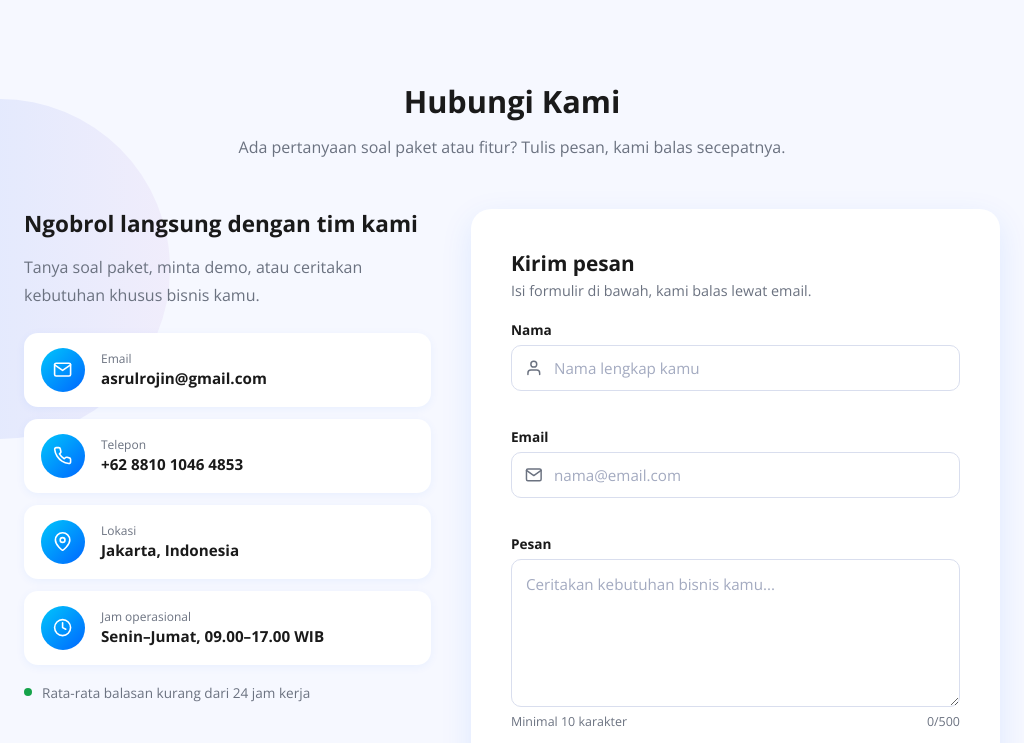
Test: Contact › memvalidasi saat field ditinggalkan (blur)
The width and height of the screenshot is (1024, 743).
Type "oji@" into the field labelled "Email".
click(736, 475); type("oji@")  # box 511,452 -> 960,498
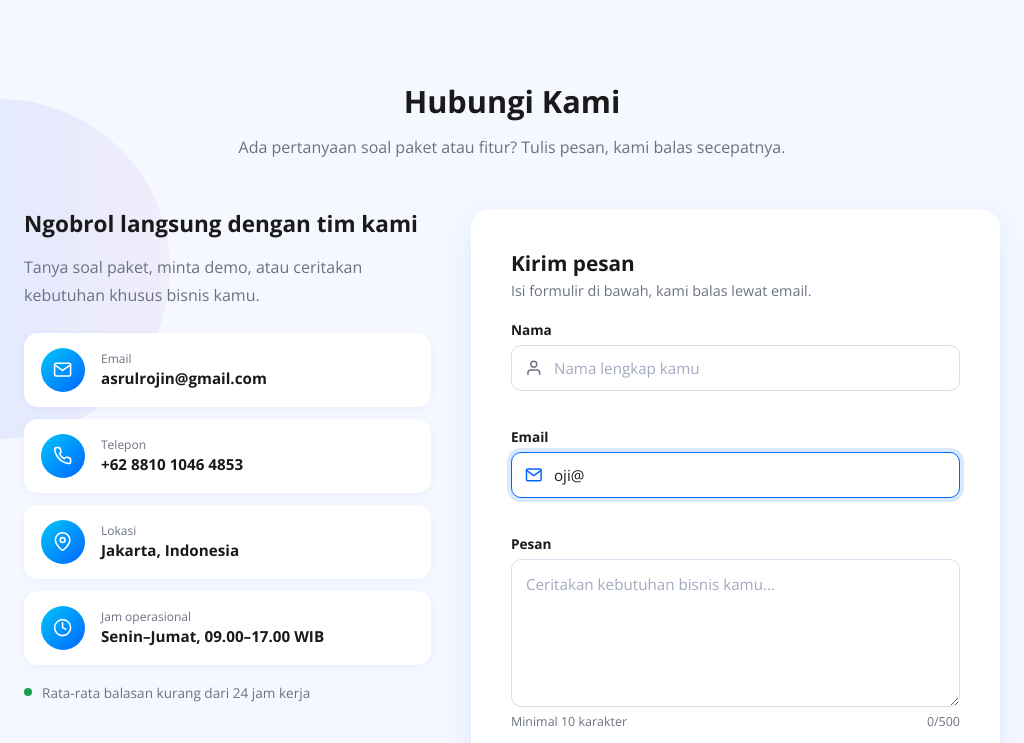
Press Tab
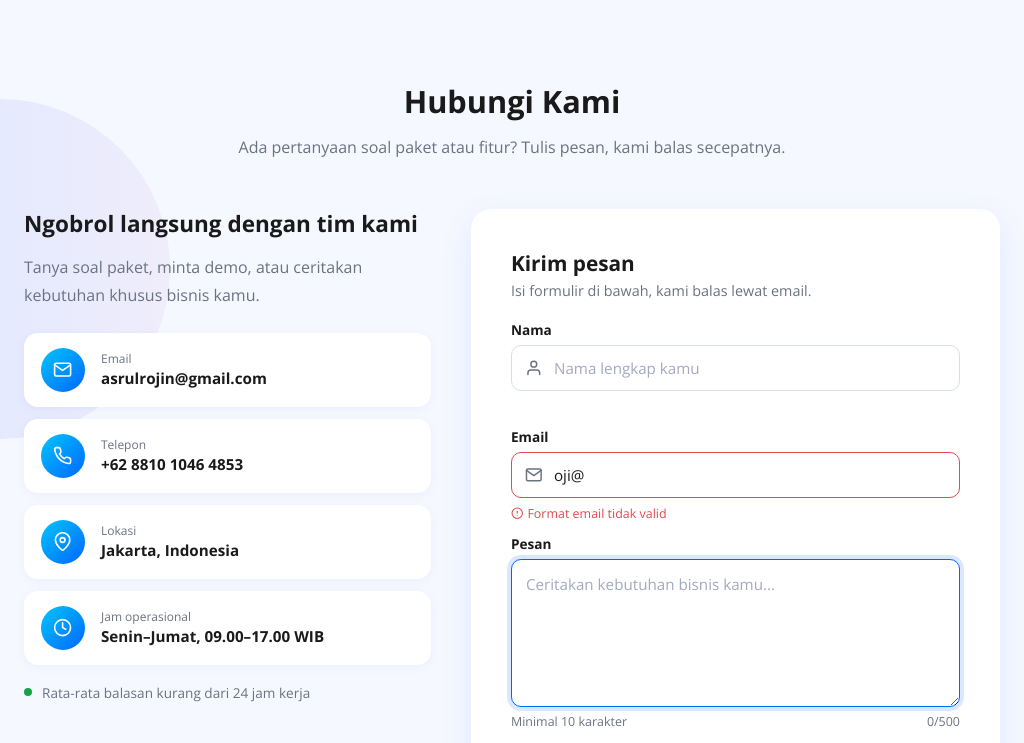
Check: the message reads "Format email tidak valid", box 527,505 -> 667,522
